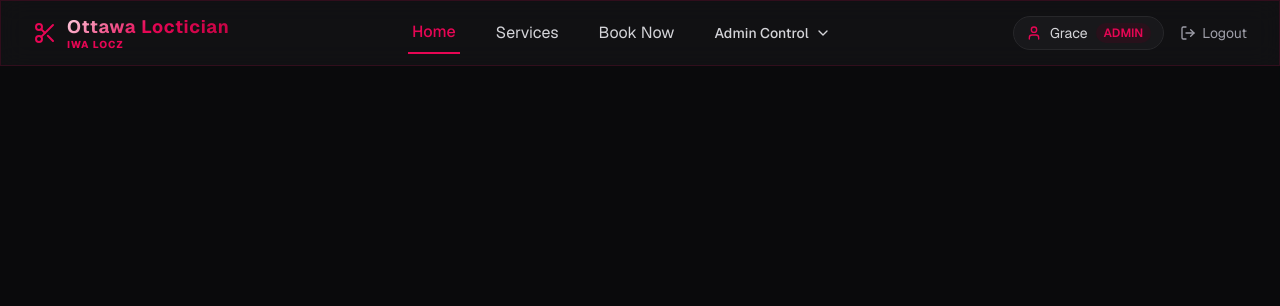
Scenario: Navbar › exposes the admin dropdown with proper aria state
Click the button "Admin Control" at (773, 33), box [710, 15, 835, 51]
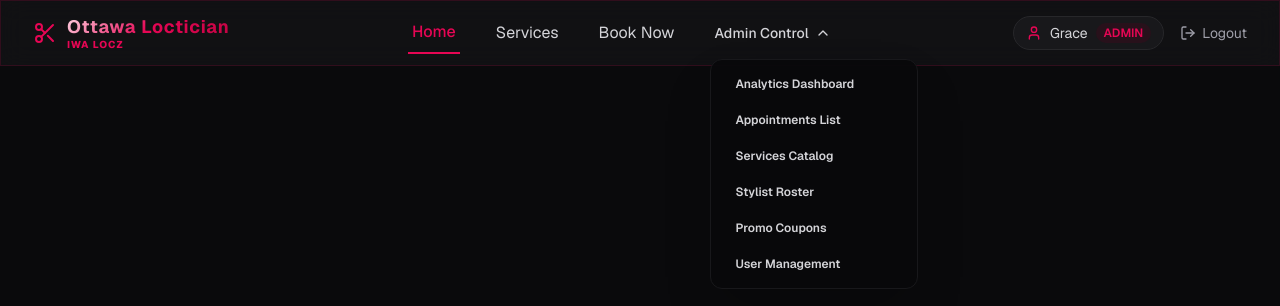
Now the button "Admin Control" is expanded
Now the menu named "Admin sections" is shown, box [710, 59, 918, 289]
Now the menu item "User Management" is shown, box [736, 256, 840, 272]
Click the button "Admin Control" at (773, 33), box [710, 15, 835, 51]
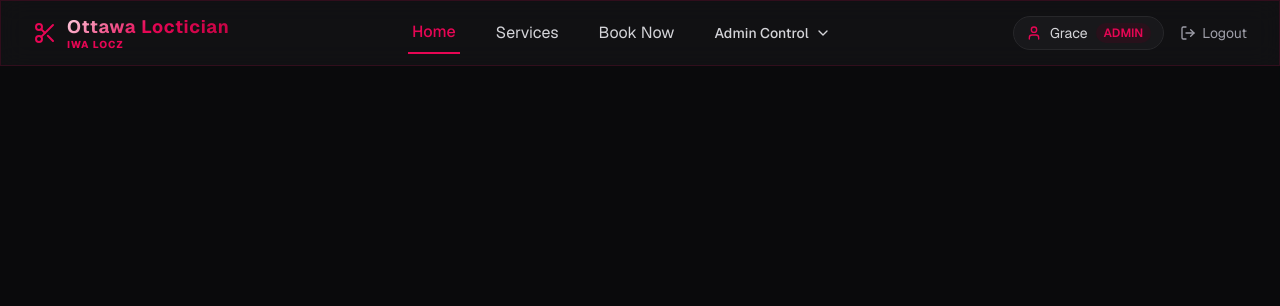
Now the menu is gone
